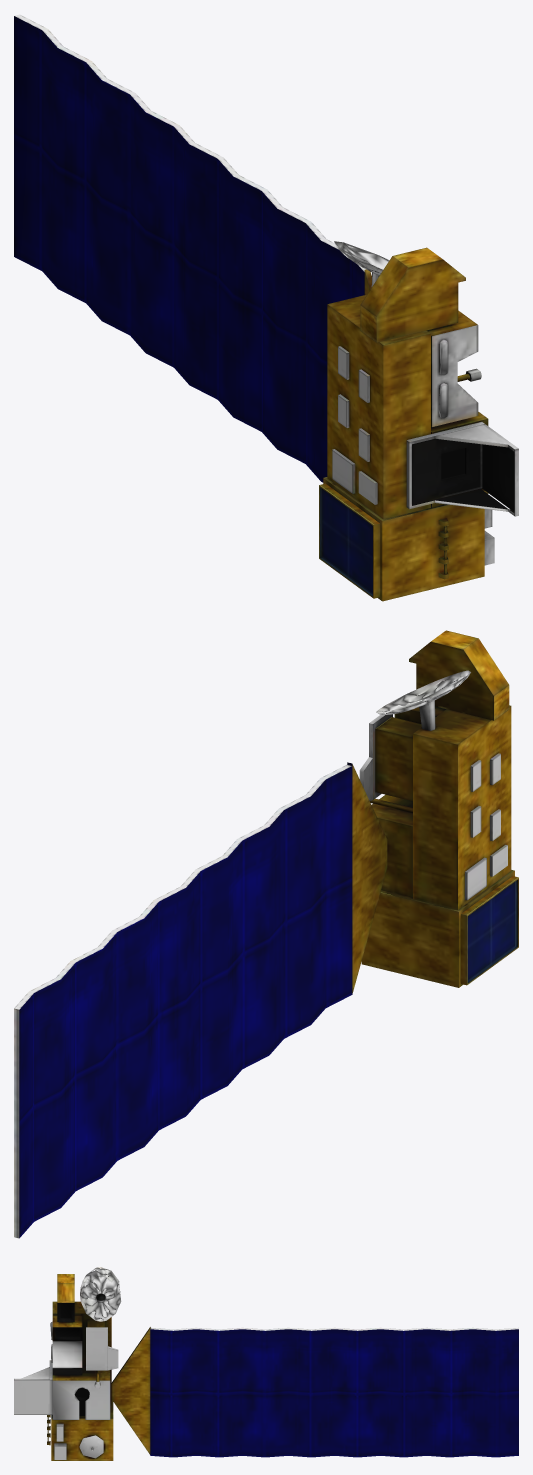
File: aura.glb
3 renders of one model, top to bottom at view 1: azimuth 30°, elevation 25°; view 2: azimuth 150°, elevation 25°; view 3: azimuth 270°, elevation 25°, orthographic. The views are drawn at different scales.
Visible parts, largest first — view 1: aura_uv.la; view 2: aura_uv.la; view 3: aura_uv.la.
Boxes of the visible parts, x1,y1,x2,y2 form: aura_uv.la: (14, 14, 518, 601); aura_uv.la: (14, 630, 518, 1238); aura_uv.la: (14, 1267, 518, 1460).
Bounding box in the file's own units: 8.98 × 18.99 × 50.82.
8 materials, 8 textured.
